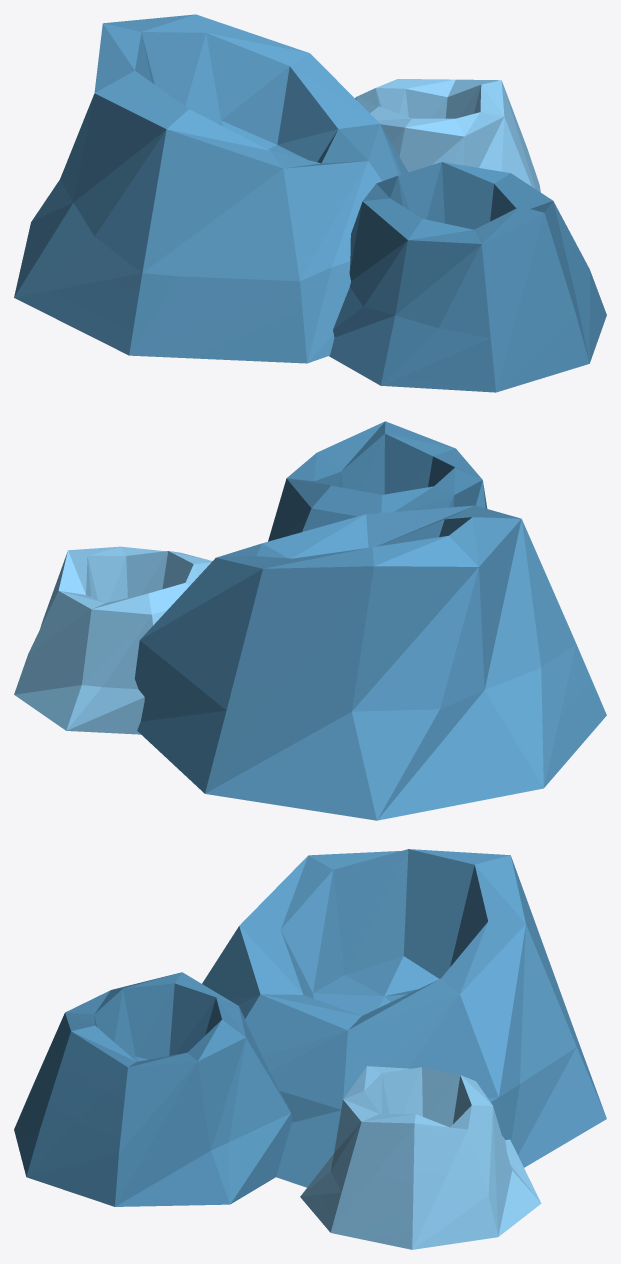
Rendered from tumbuhan2.fbx.
3 views of the same model, one above another, from view 1: azimuth 30°, elevation 25°; view 2: azimuth 150°, elevation 25°; view 3: azimuth 270°, elevation 25° (orthographic). The views are drawn at different scales.
Parts seen in each view (by area): view 1: Cylinder_18.001; view 2: Cylinder_18.001; view 3: Cylinder_18.001.
Boxes of the visible parts, bbox=[...] form: Cylinder_18.001: bbox=[14, 14, 606, 392]; Cylinder_18.001: bbox=[14, 421, 606, 820]; Cylinder_18.001: bbox=[14, 849, 606, 1249].
Size of the model in its own units: 2465 by 1007 by 2539.
